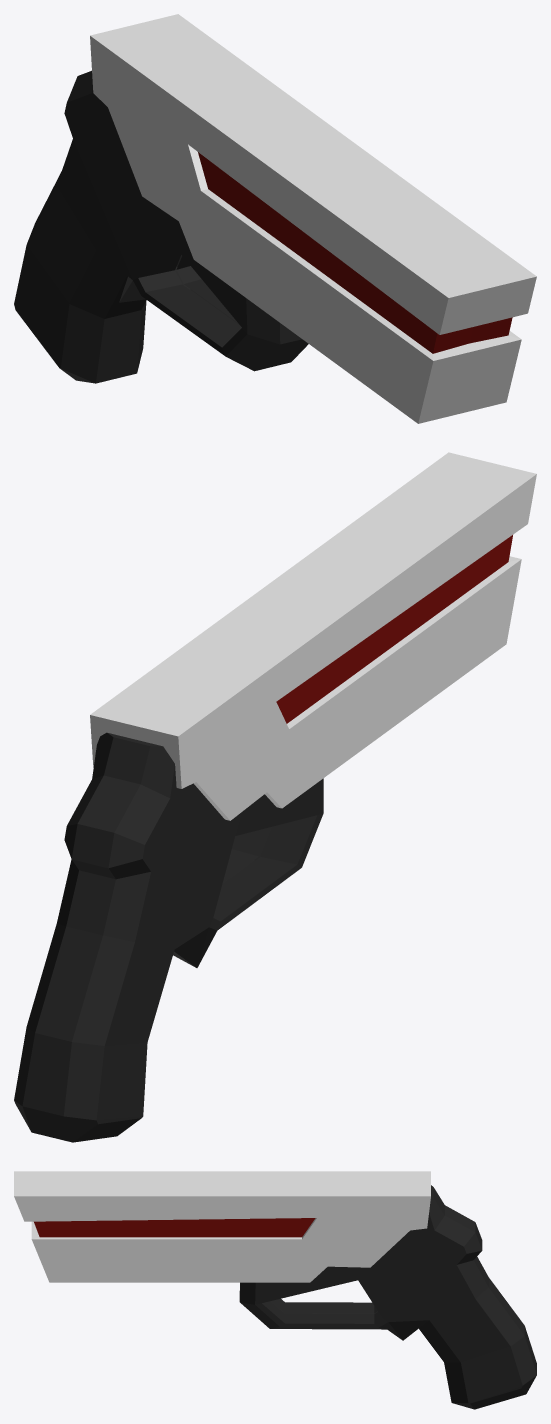
File: pistol.fbx
The picture shows the model from 3 angles, top to bottom: view 1: azimuth 30°, elevation 25°; view 2: azimuth 150°, elevation 25°; view 3: azimuth 270°, elevation 25°; orthographic projection. The views are drawn at different scales.
Visible parts, largest first — view 1: Cube, Cube.001; view 2: Cube, Cube.001; view 3: Cube, Cube.001.
Boxes of the visible parts, left/top/right/bottom form: Cube: left=90, top=14, right=536, bottom=423; Cube.001: left=14, top=70, right=308, bottom=383; Cube: left=90, top=452, right=536, bottom=820; Cube.001: left=14, top=732, right=323, bottom=1142; Cube: left=14, top=1171, right=430, bottom=1282; Cube.001: left=239, top=1185, right=536, bottom=1409.
Bounding box in the file's own units: 30.08 × 123 × 265.
